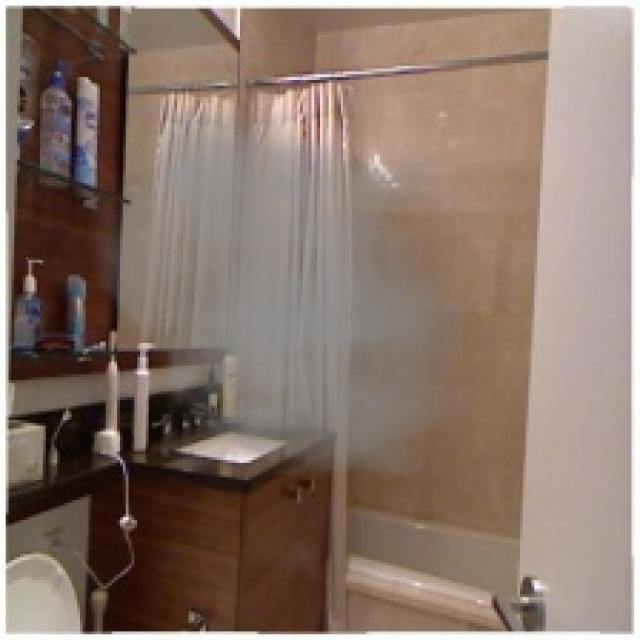smoke: (80, 106, 463, 480)
